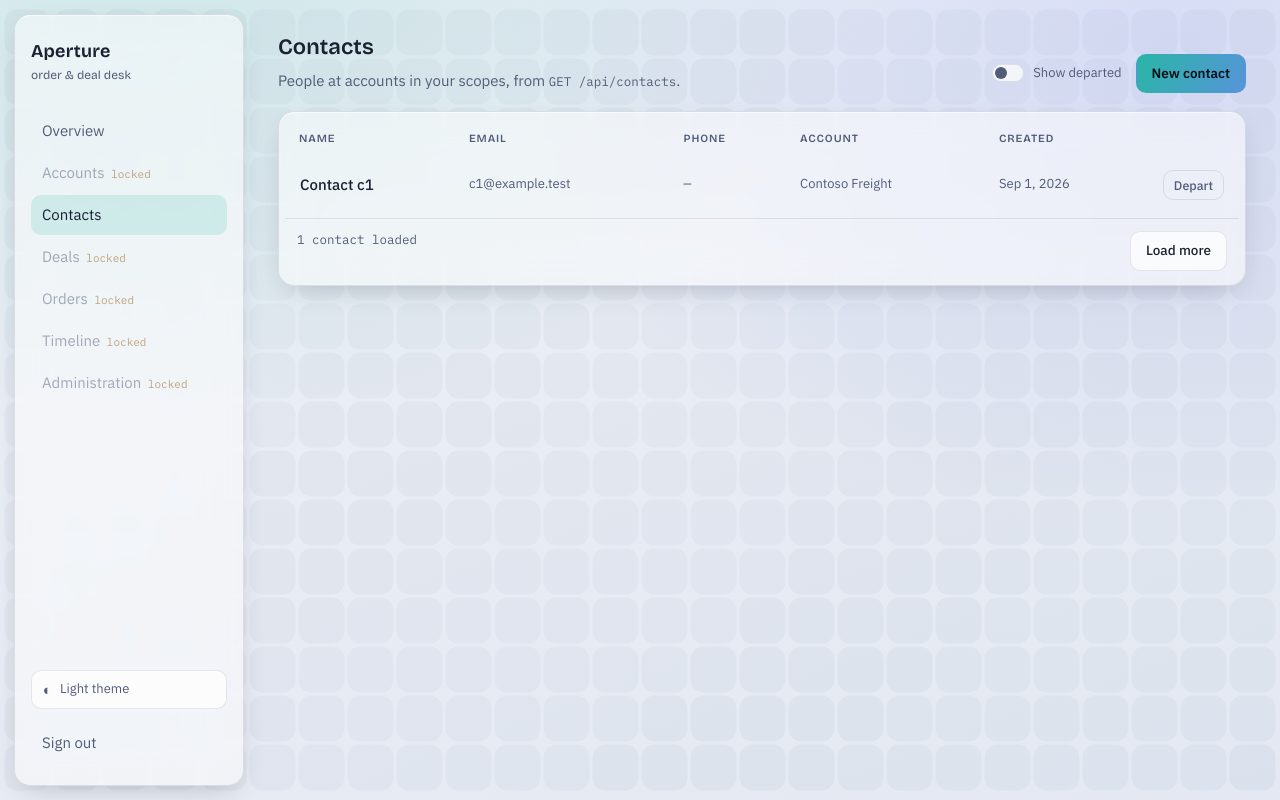
Test case: Contacts grid › Given a grid with a NextCursor, when "load more" is used, then the next page appends and a null cursor hides the control (edge 11)
Expected: the text "Contact c1" is shown, [285,158,455,212]
Click the button "Load more" at {"x": 1178, "y": 251}, box [1130,231,1227,271]
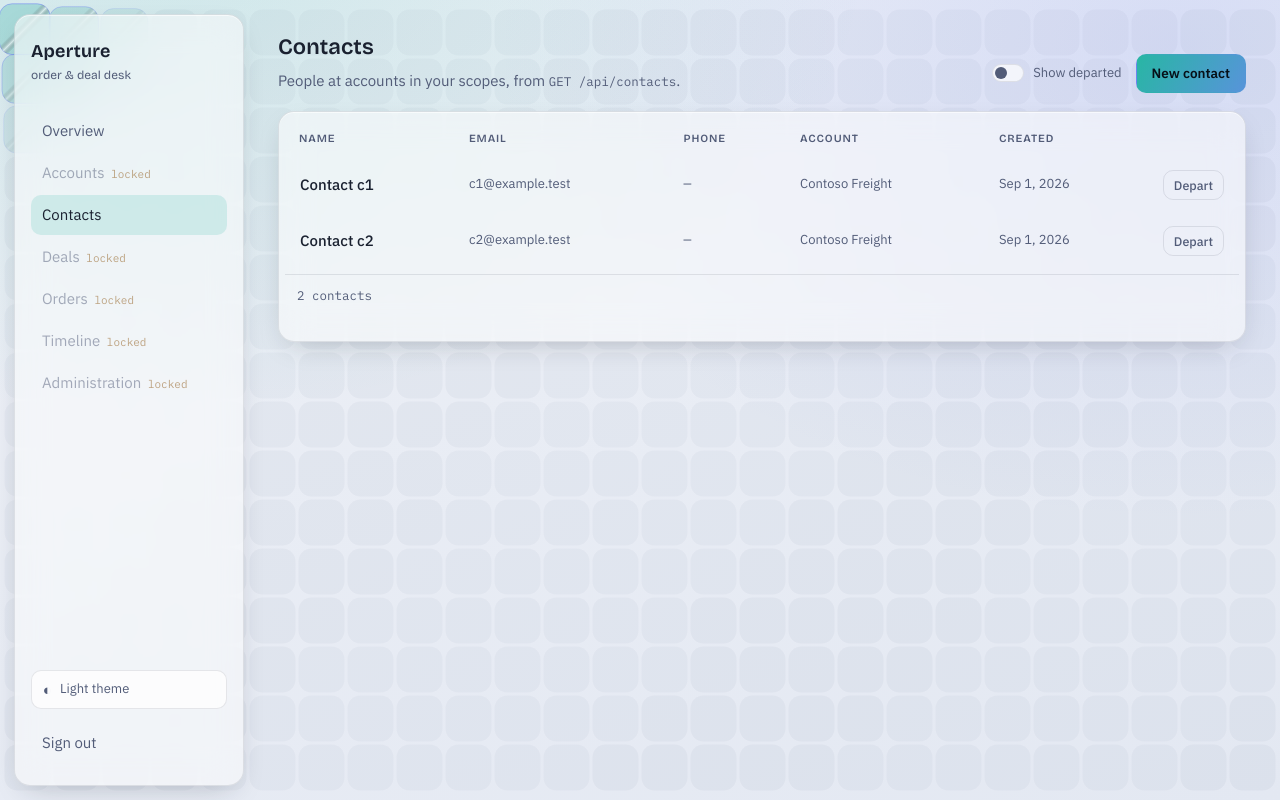
Expected: the text "Contact c1" is shown, [285,158,455,212]
Expected: the text "Contact c2" is shown, [285,214,455,268]
Expected: the button "Load more" is gone
